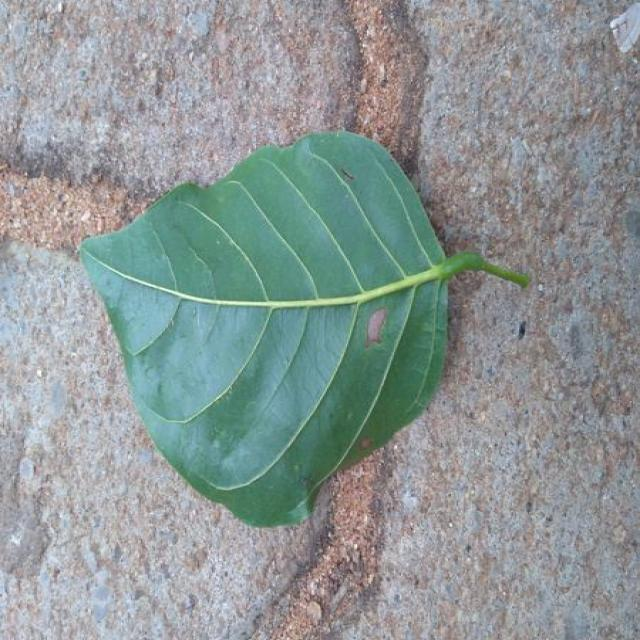honge: (80, 132, 525, 526)
